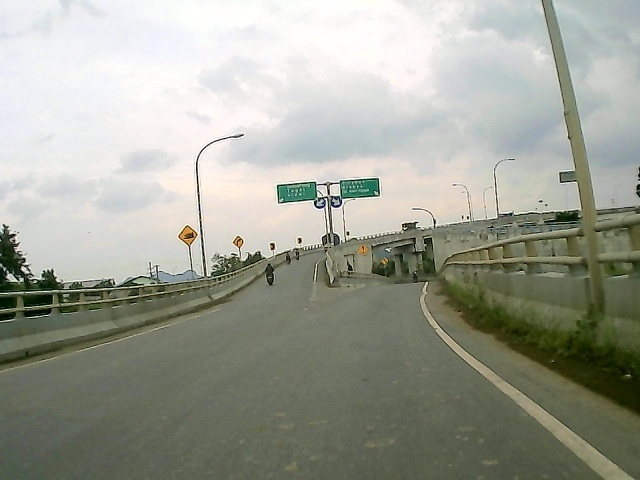Hati-hati: (358, 243, 369, 258)
Jalanan menanjak: (177, 224, 199, 247)
Tikungan ke kanan: (231, 235, 246, 249)
